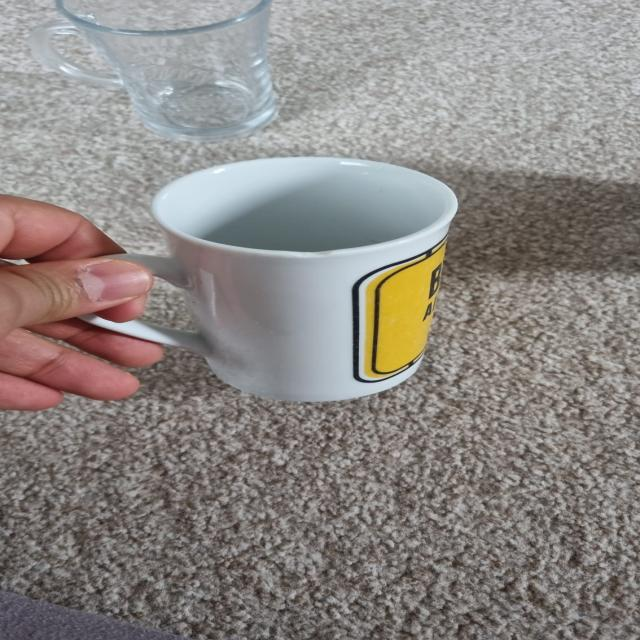Cup: (87, 158, 457, 402), (29, 0, 278, 141)
